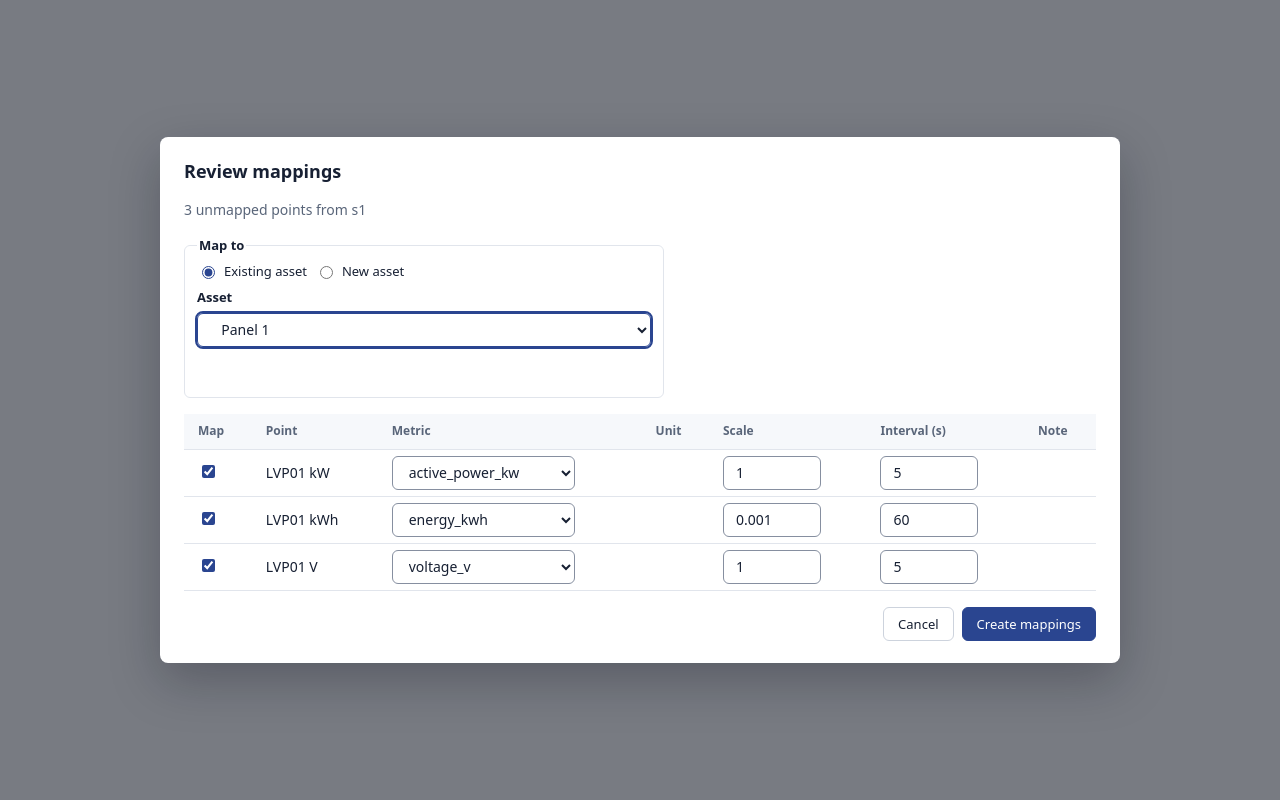
Test case: ReviewDialog › with every row unchecked the button is disabled and says to check one
Click the checkbox named "Map LVP01 kW" at (208, 472), box [202,466,215,478]
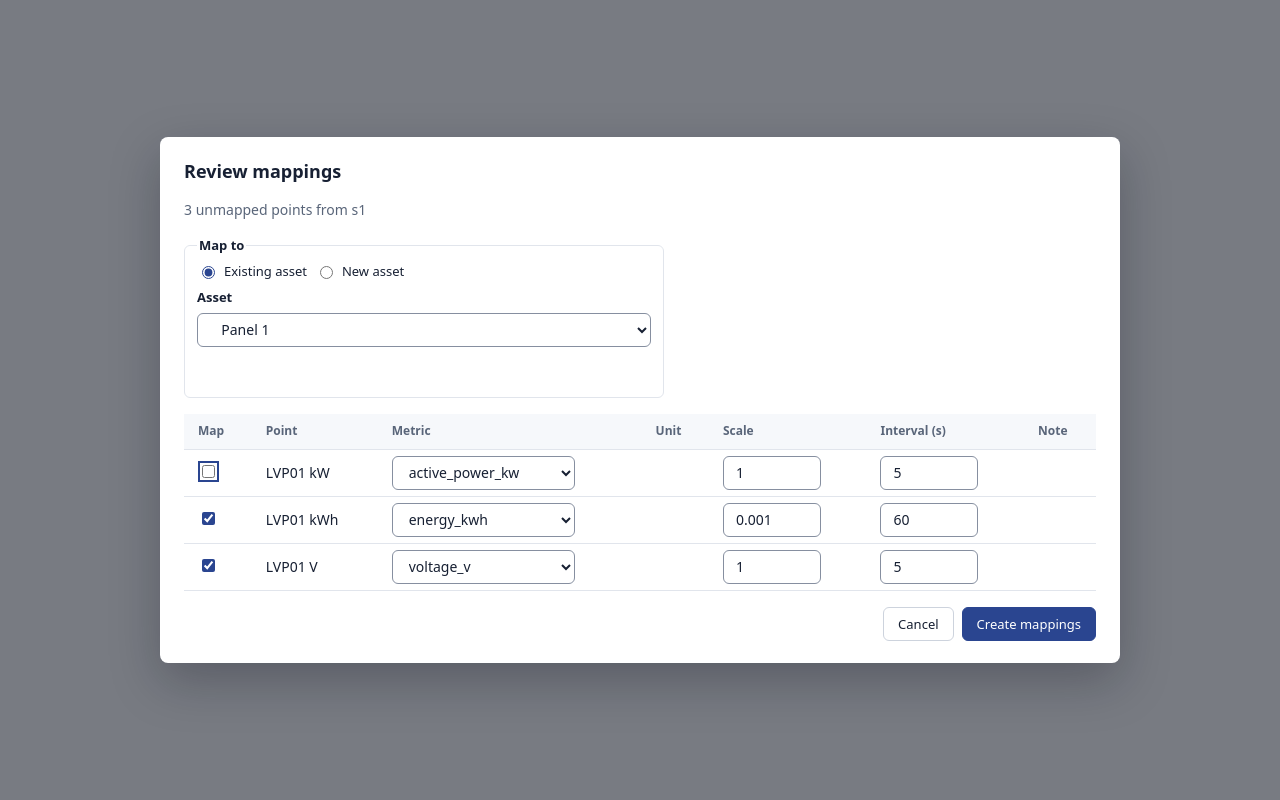
Click the checkbox named "Map LVP01 kWh" at (208, 519), box [202,512,215,526]
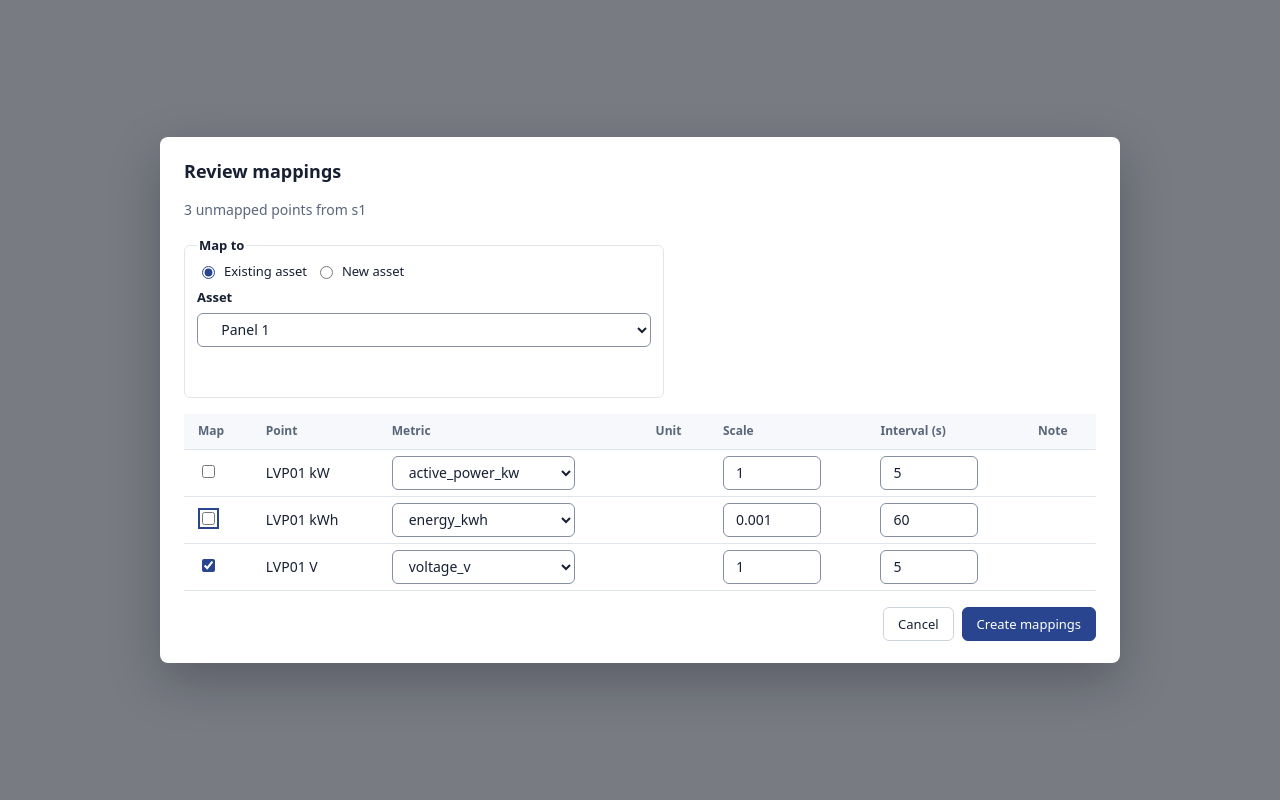
Click the checkbox named "Map LVP01 V" at (208, 566), box [202,560,215,572]
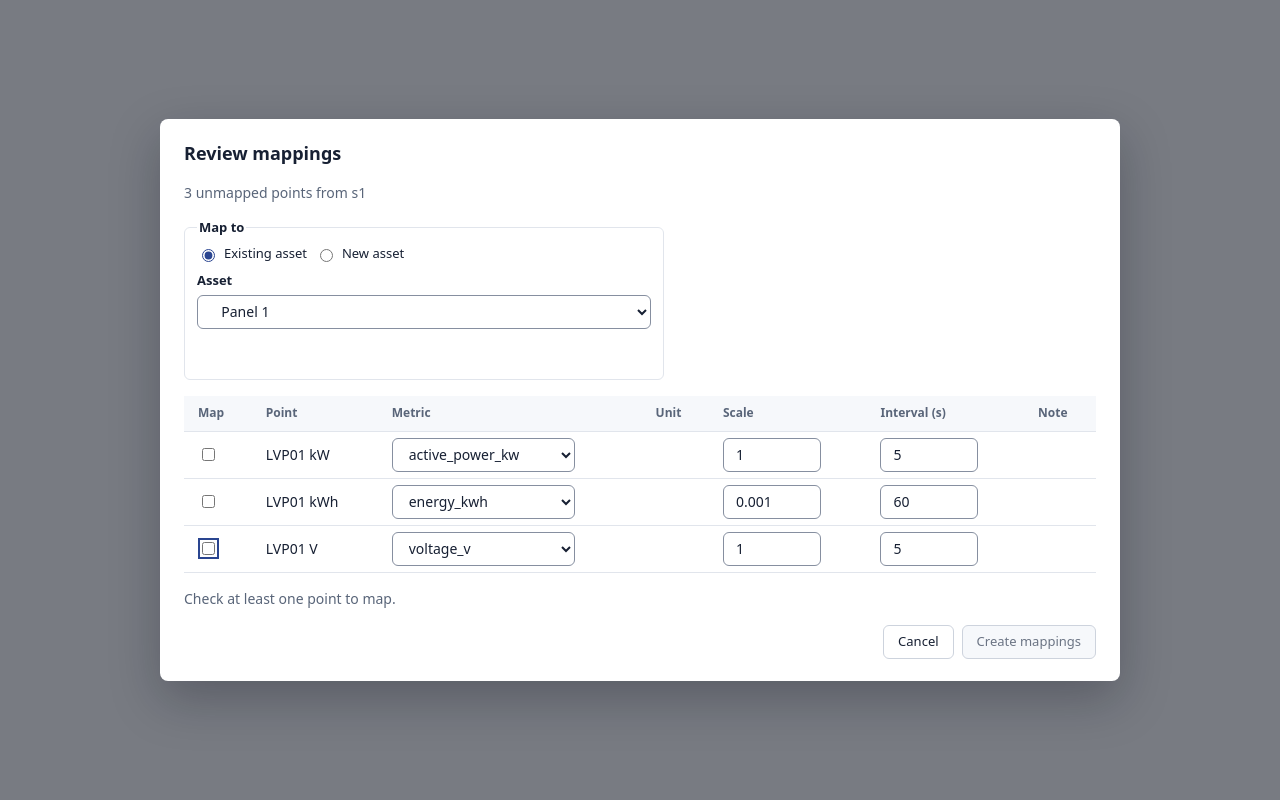
Now the button "Create mappings" is disabled, box [962,624,1096,658]
Now the text "Check at least one point to map." is shown, box [184,589,396,608]
